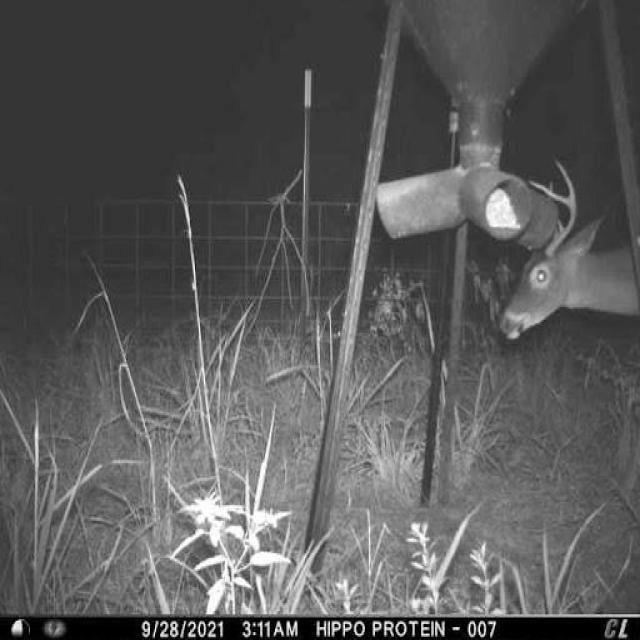Deer: (496, 148, 640, 356)
